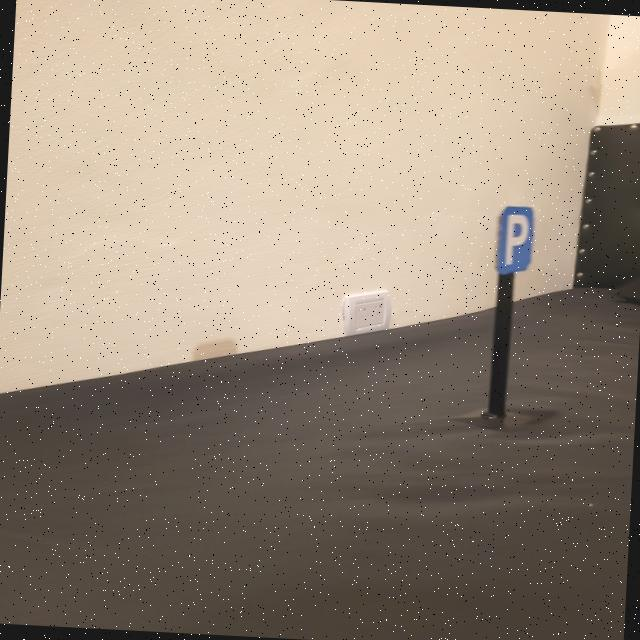parking: (492, 205, 536, 276)
